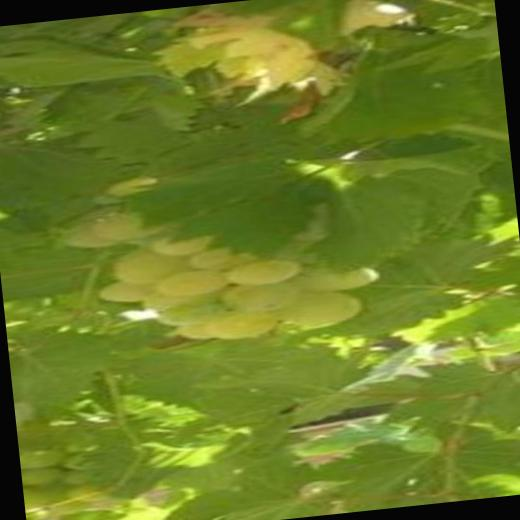Orange: (58, 180, 384, 354)
